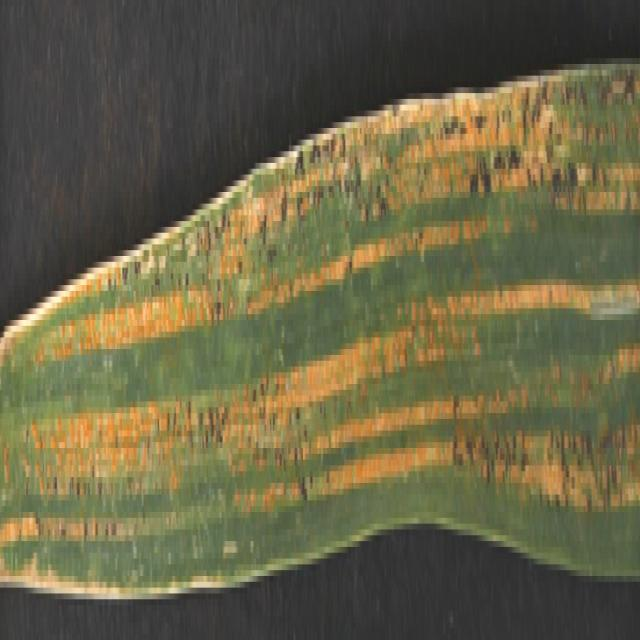leaf rust: (1, 76, 640, 558)
